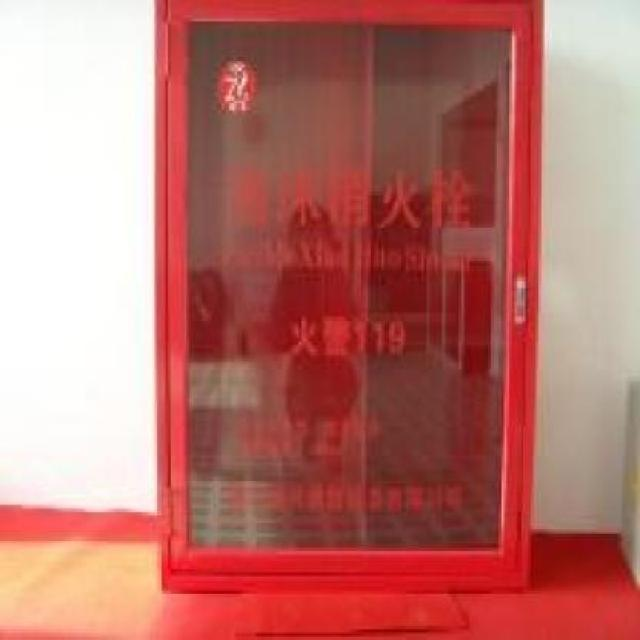firehydrant: (149, 0, 548, 597)
